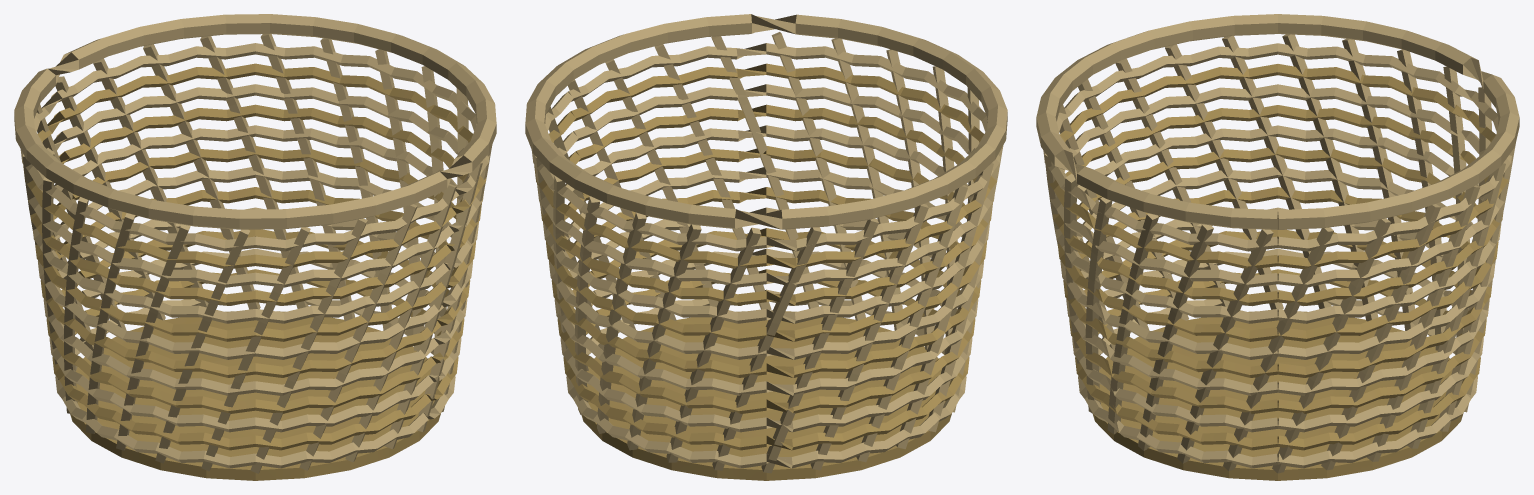
File: PR_Basket.glb
The picture shows the model from 3 angles, left to right: view 1: azimuth 30°, elevation 25°; view 2: azimuth 150°, elevation 25°; view 3: azimuth 270°, elevation 25°; orthographic projection.
Visible parts, largest first — view 1: PR_Basket; view 2: PR_Basket; view 3: PR_Basket.
Part boxes in pixels (box(x1,y1,x2,y2)): PR_Basket: box(14, 14, 496, 480); PR_Basket: box(525, 14, 1007, 480); PR_Basket: box(1036, 14, 1519, 480).
Bounding box in the file's own units: 0.6122 × 0.404 × 0.6122.
Materials: 2 (1 with a texture image).
